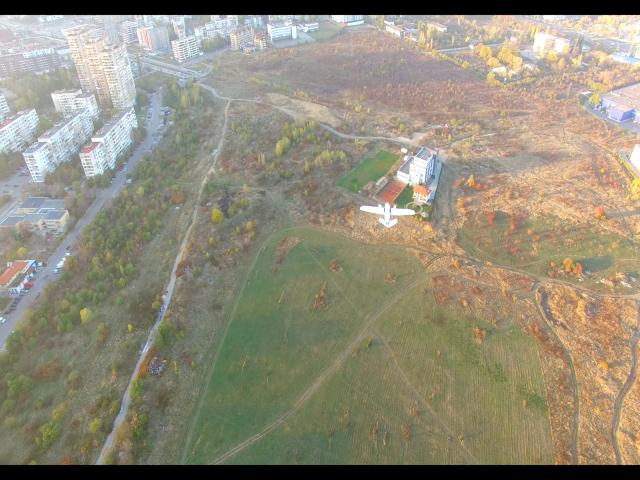plane: (360, 201, 414, 227)
